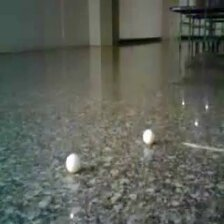w: (65, 153, 82, 172), (142, 128, 154, 145)
